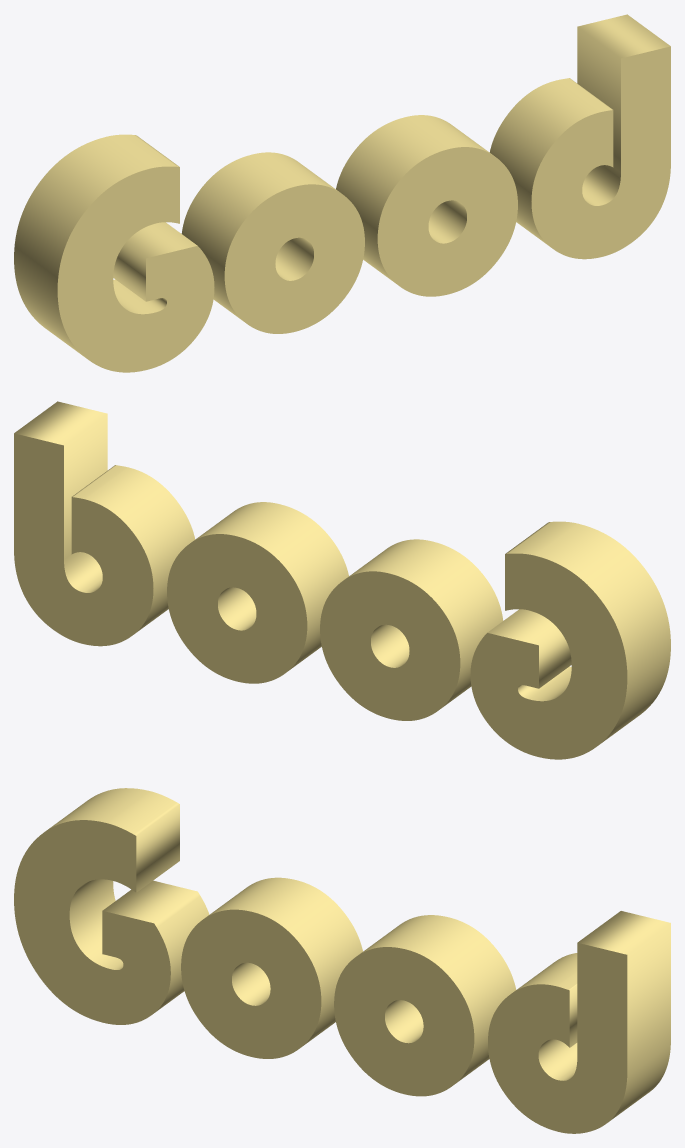
The model's file is Good.fbx.
3 renders of one model, top to bottom at view 1: azimuth 30°, elevation 25°; view 2: azimuth 150°, elevation 25°; view 3: azimuth 330°, elevation 25°, orthographic.
Parts seen in each view (by area): view 1: Miss; view 2: Miss; view 3: Miss.
Part boxes in pixels (box(x1,y1,x2,y2)): Miss: box(14, 14, 670, 372); Miss: box(14, 401, 670, 759); Miss: box(14, 788, 670, 1133).
Bounding box in the file's own units: 195 × 60.9 × 24.
